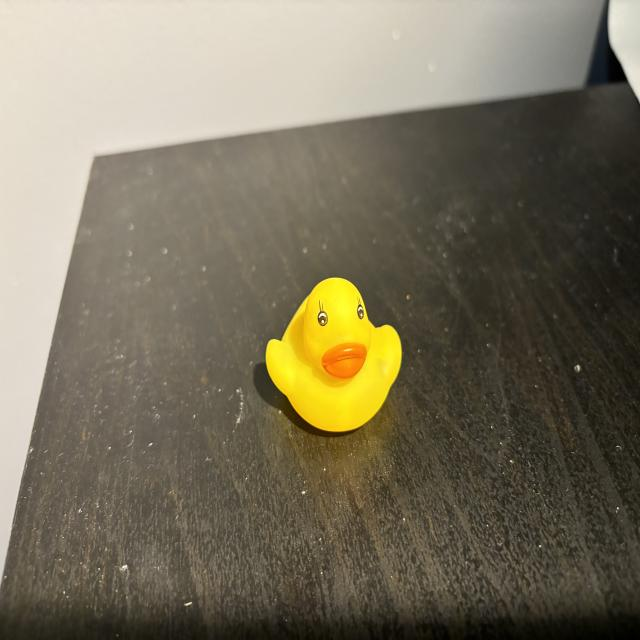duck_regular: (268, 276, 403, 434)
